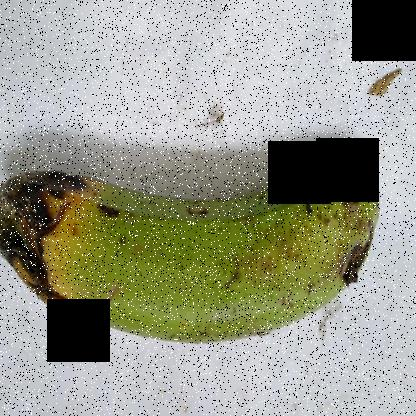rotten: (1, 158, 118, 335)
unripe: (102, 151, 384, 362)
